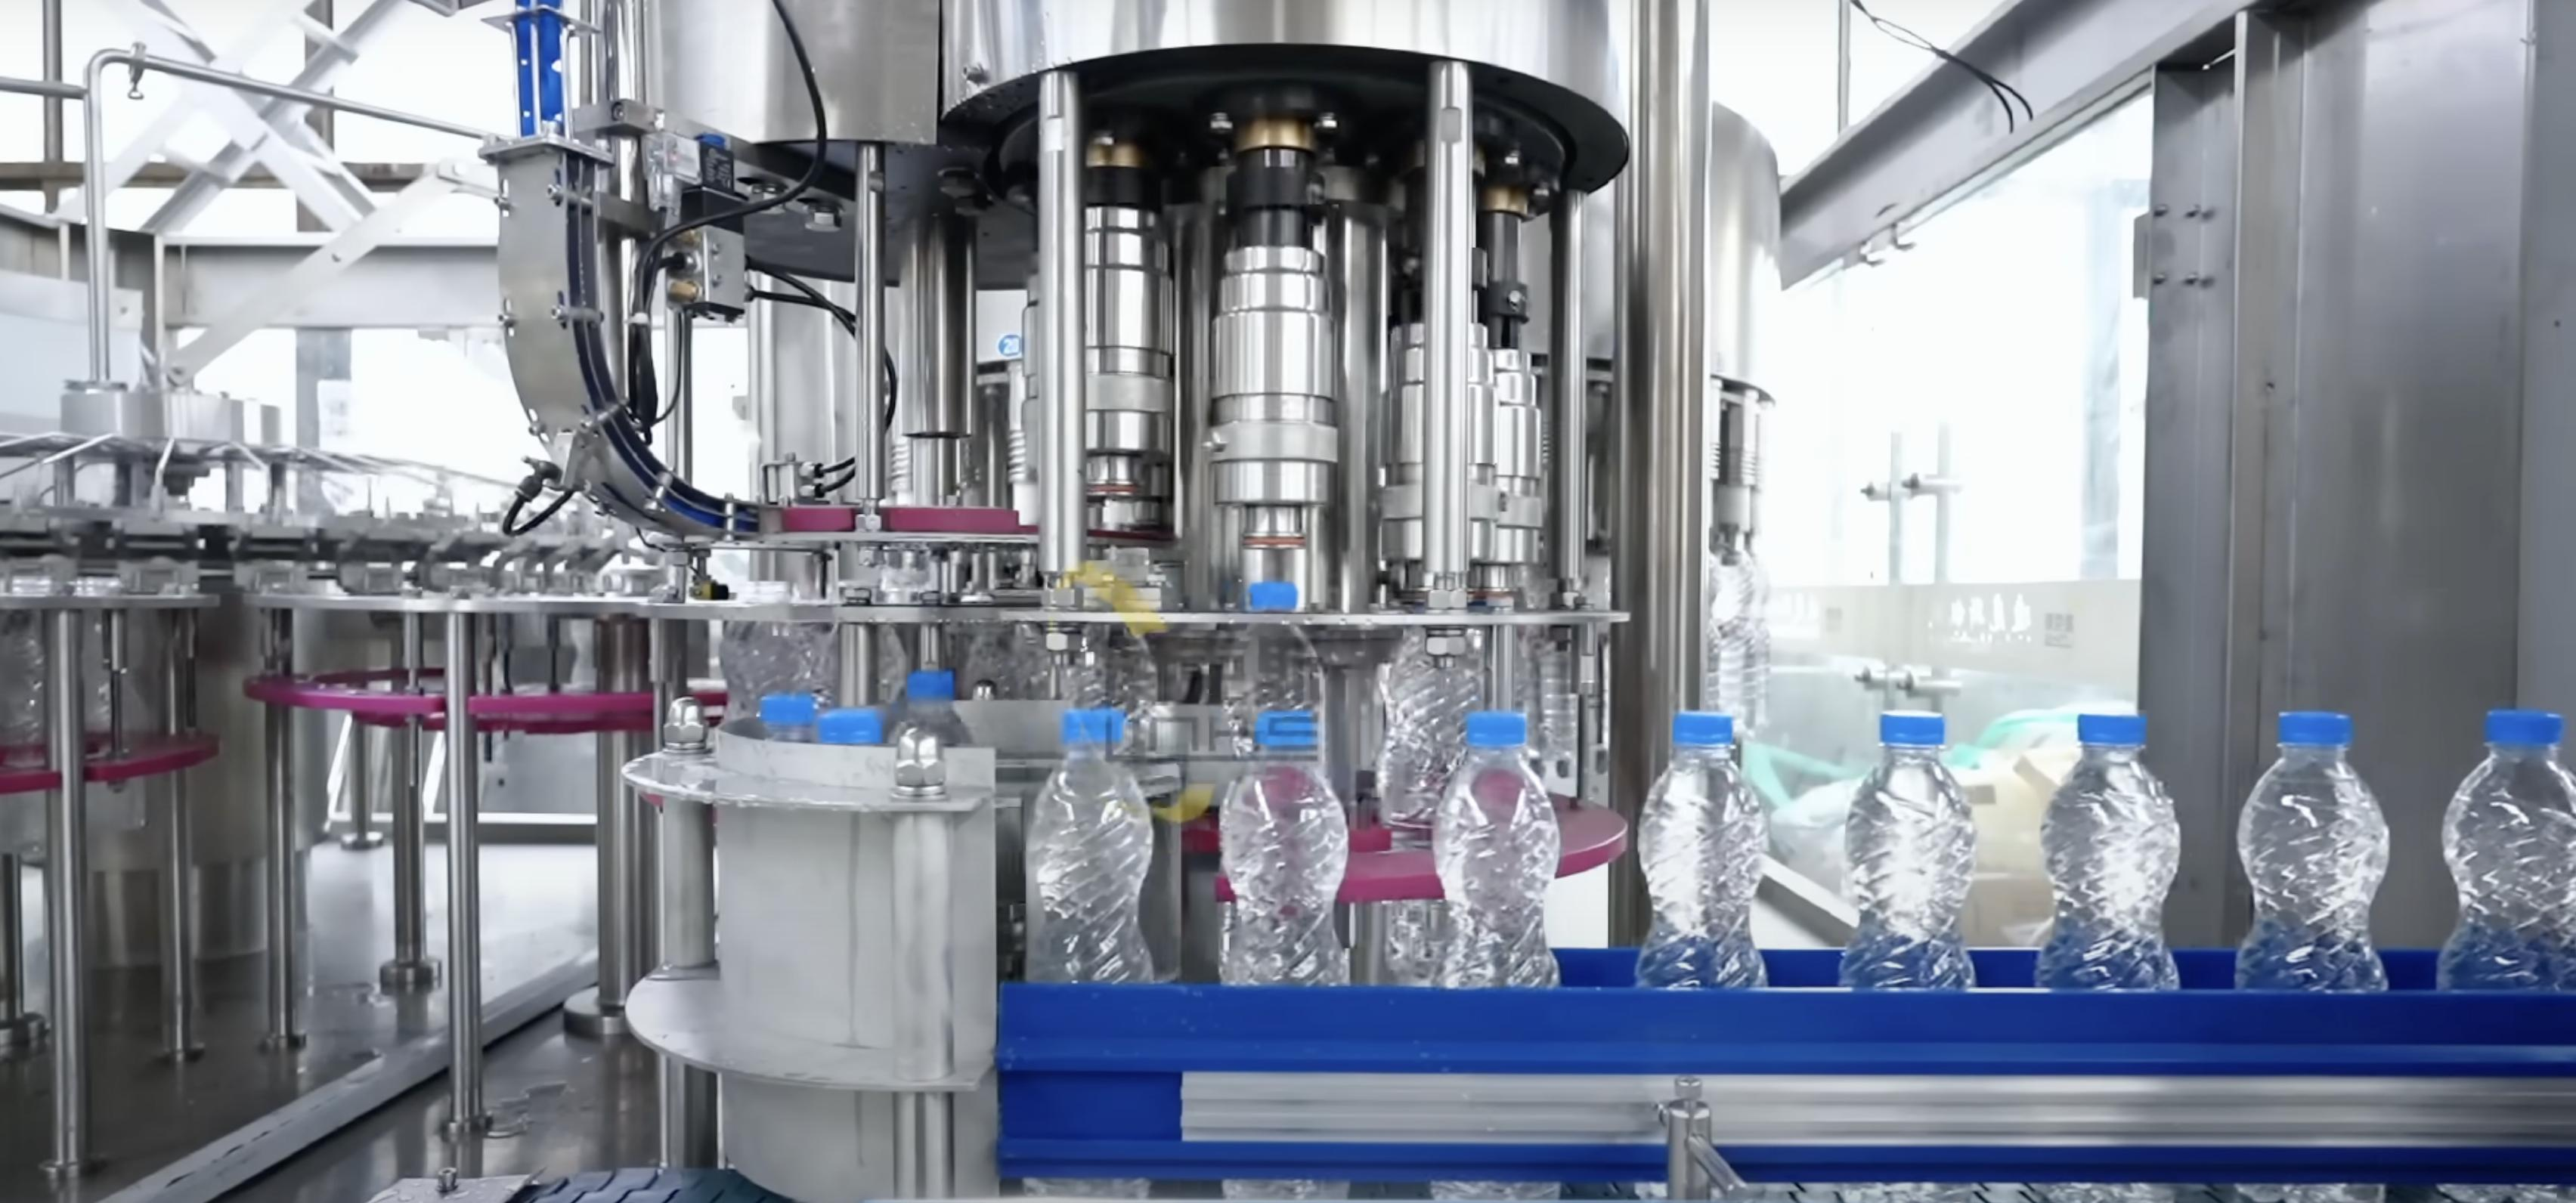bottle: (2223, 687, 2402, 993), (1398, 707, 1589, 993), (2029, 692, 2196, 988), (1015, 697, 1168, 984), (1203, 708, 1360, 986), (2435, 677, 2576, 984), (1835, 697, 1981, 993), (1633, 697, 1776, 989)
